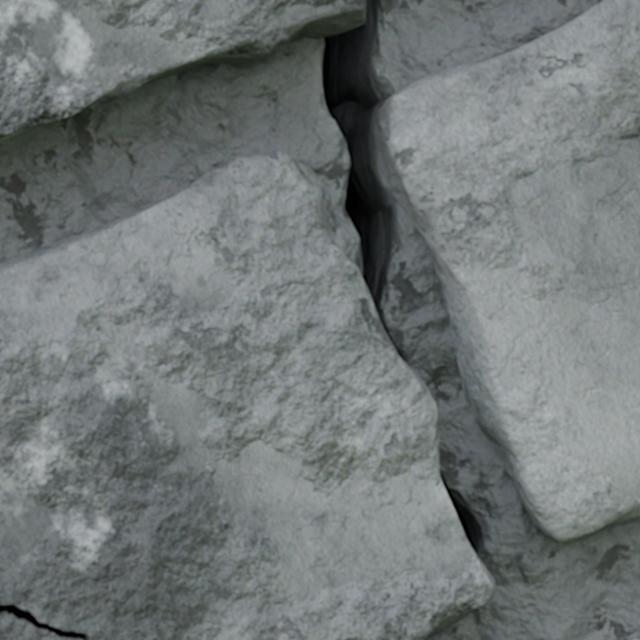crack: (0, 0, 639, 639), (627, 632, 639, 639)
